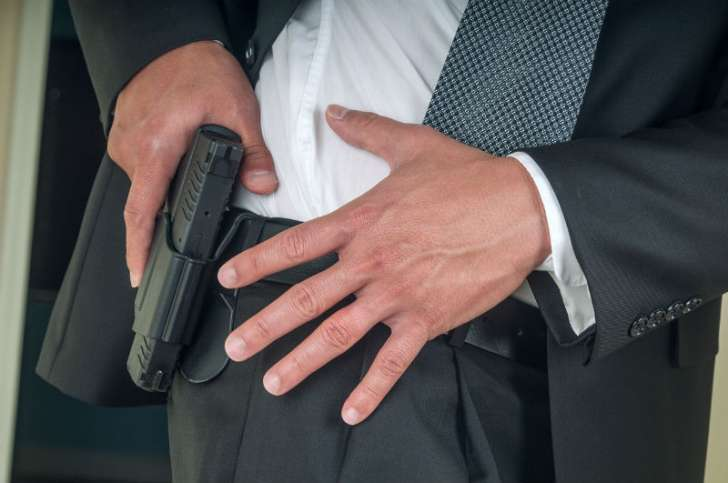gun: (119, 121, 251, 395)
